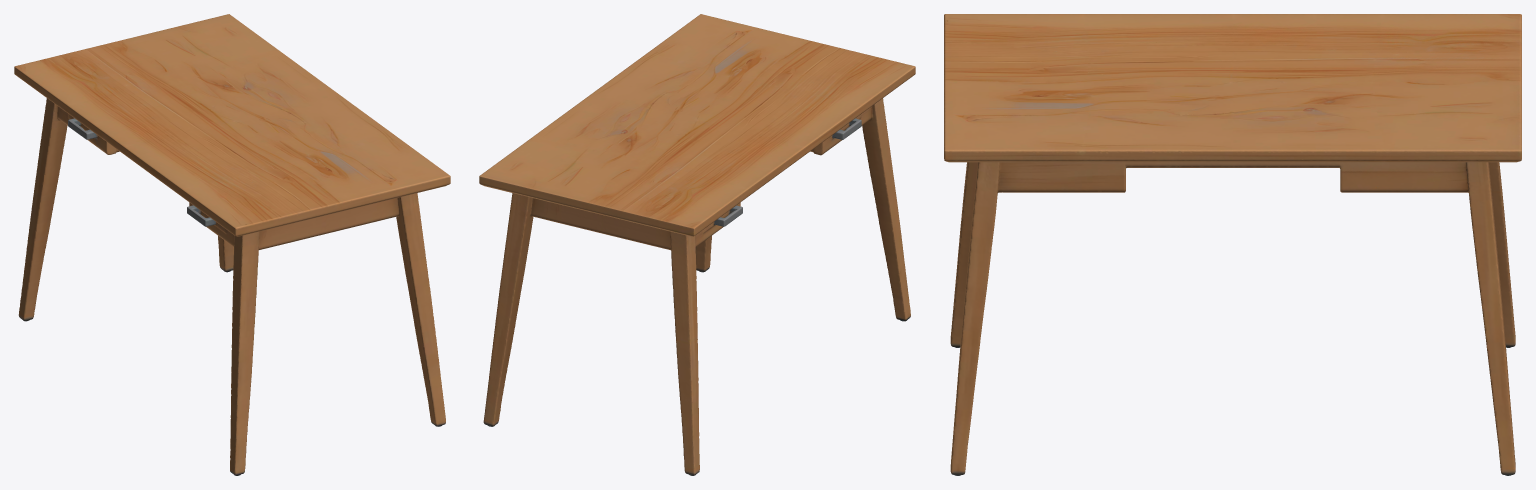
File: realistic_wooden_office_desk_04.glb
3 renders of one model, left to right at view 1: azimuth 30°, elevation 25°; view 2: azimuth 150°, elevation 25°; view 3: azimuth 270°, elevation 25°, orthographic. The views are drawn at different scales.
Parts seen in each view (by area): view 1: tripo_node_12e67eba-2ae7-490f-9149-251e4bd23618; view 2: tripo_node_12e67eba-2ae7-490f-9149-251e4bd23618; view 3: tripo_node_12e67eba-2ae7-490f-9149-251e4bd23618.
Boxes of the visible parts, left/top/right/bottom form: tripo_node_12e67eba-2ae7-490f-9149-251e4bd23618: left=14, top=14, right=450, bottom=475; tripo_node_12e67eba-2ae7-490f-9149-251e4bd23618: left=479, top=14, right=915, bottom=475; tripo_node_12e67eba-2ae7-490f-9149-251e4bd23618: left=944, top=14, right=1521, bottom=475.
Size of the model in its own units: 0.5611 by 0.628 by 1.
1 material, 1 textured.
